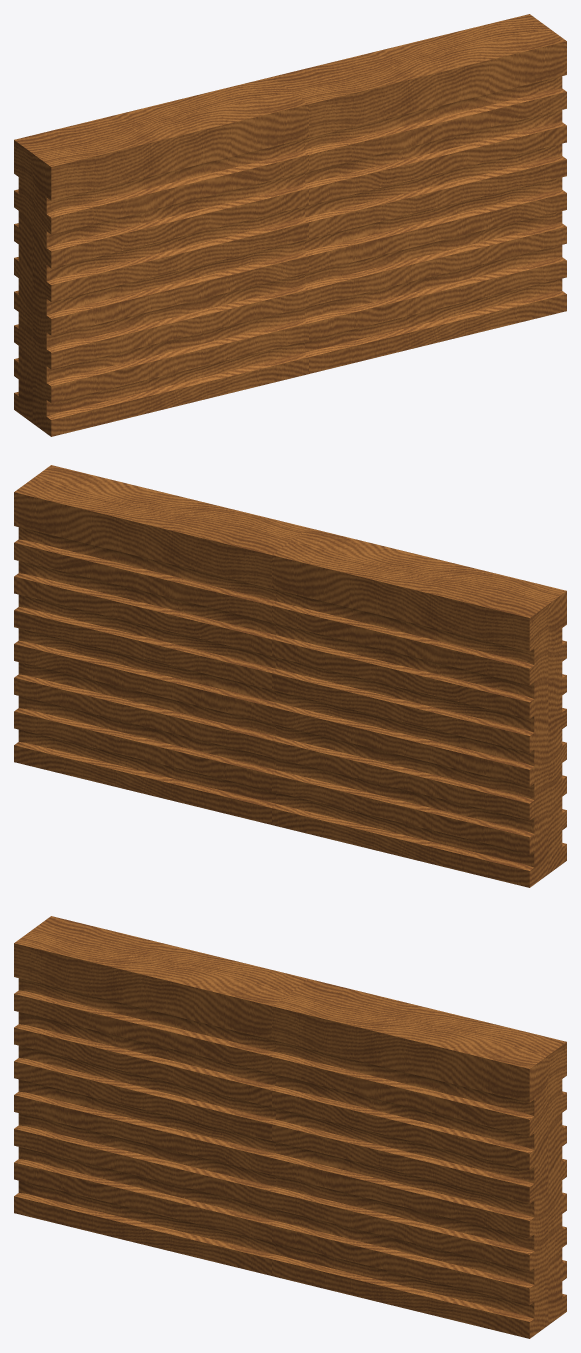
Rendered from roof_attic_skillion_strip_plank.glb.
3 views of the same model, one above another, from view 1: azimuth 30°, elevation 25°; view 2: azimuth 150°, elevation 25°; view 3: azimuth 330°, elevation 25° (orthographic).
Parts seen in each view (by area): view 1: town_roof_attic_skillion_strip_plank; view 2: town_roof_attic_skillion_strip_plank; view 3: town_roof_attic_skillion_strip_plank.
Boxes of the visible parts, left/top/right/bottom form: town_roof_attic_skillion_strip_plank: left=14, top=14, right=566, bottom=436; town_roof_attic_skillion_strip_plank: left=14, top=465, right=566, bottom=887; town_roof_attic_skillion_strip_plank: left=14, top=916, right=566, bottom=1338.
Bounding box in the file's own units: 2 × 1 × 0.25.
1 material, 1 textured.
